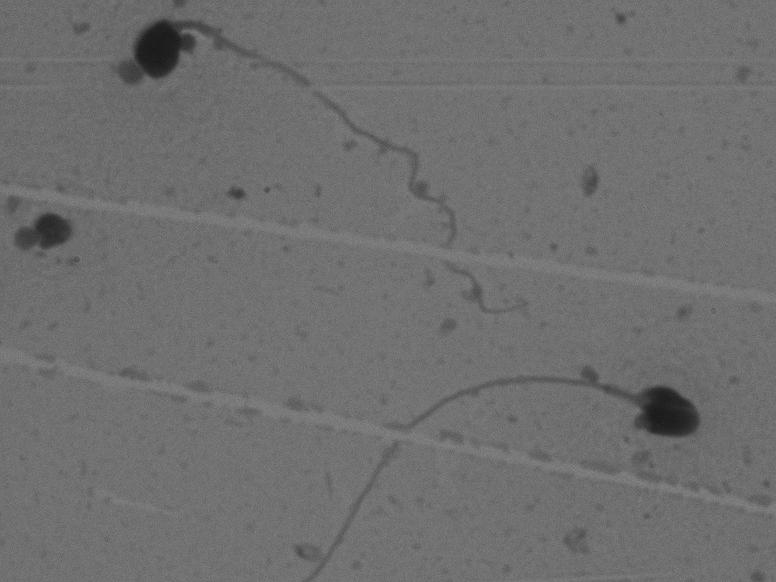Abnormal: (100, 10, 553, 314), (272, 322, 736, 564)
